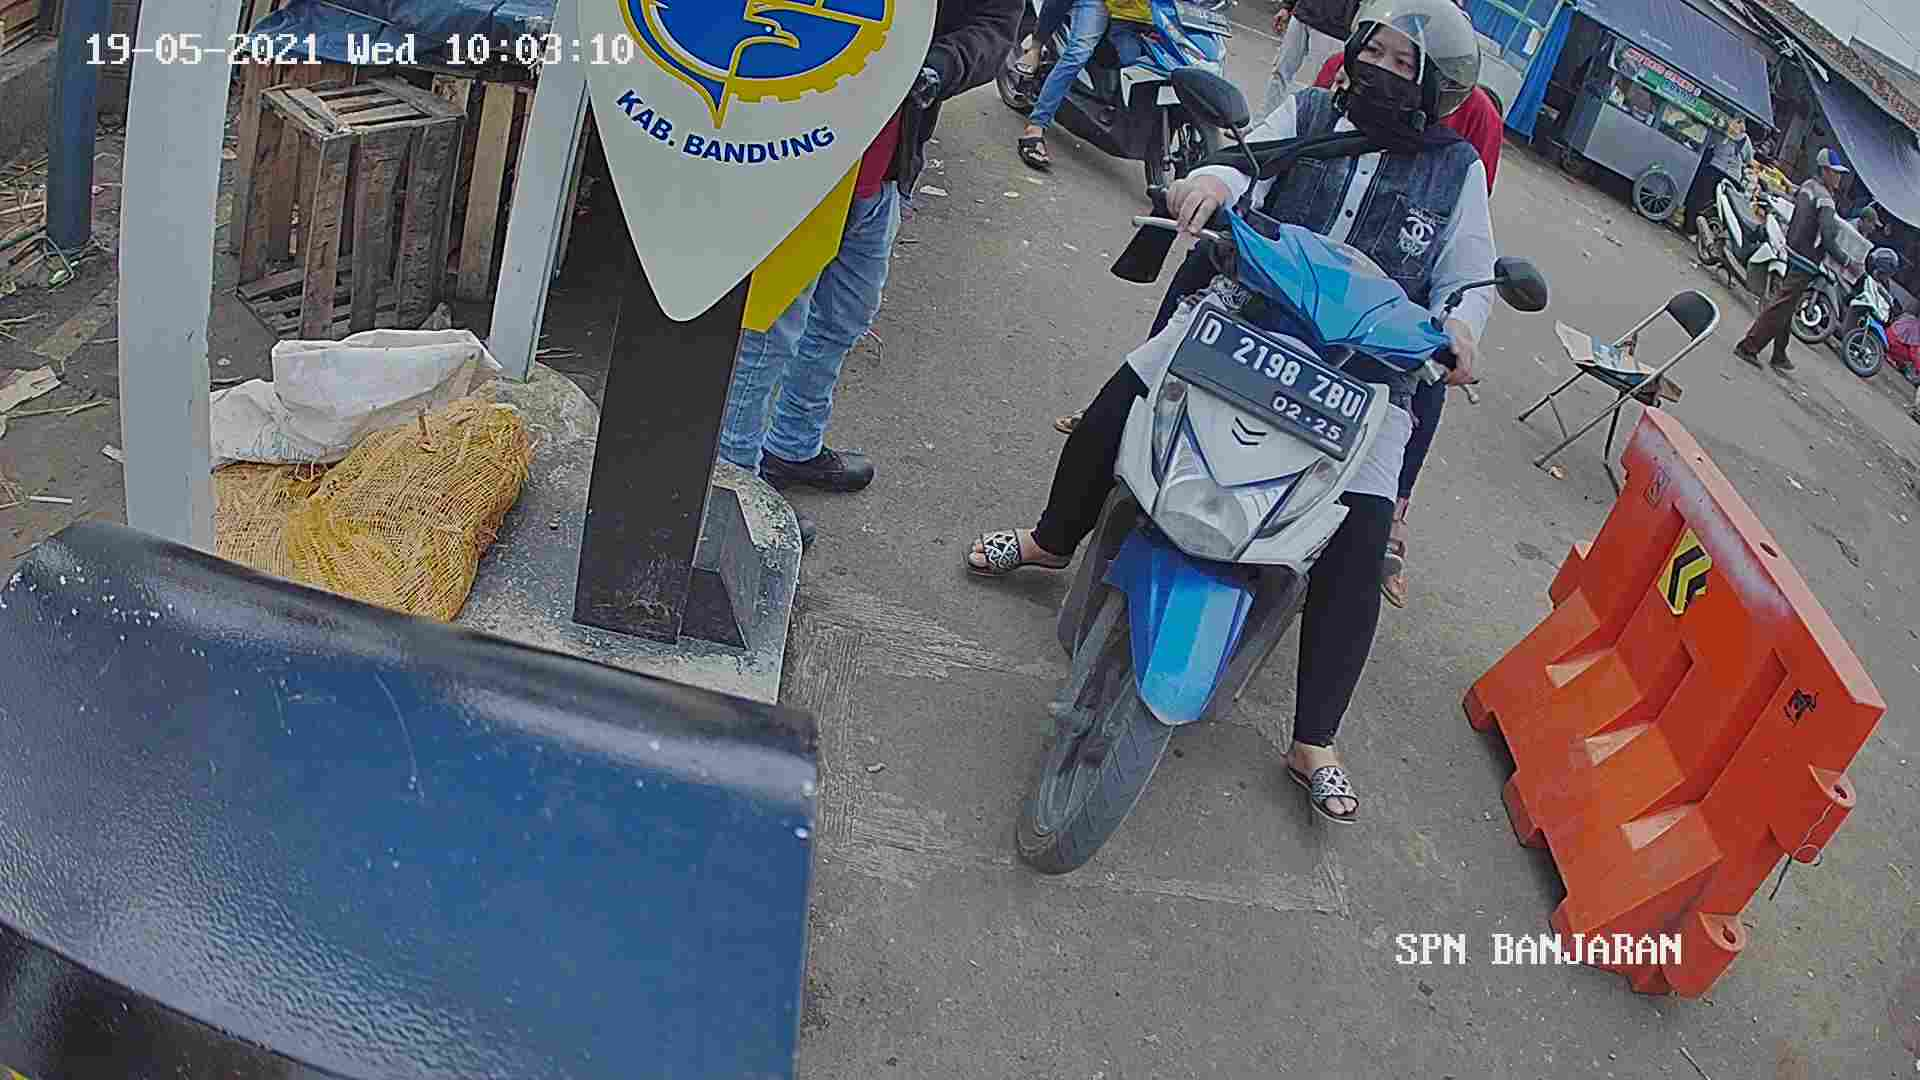motor: (1010, 131, 1494, 924)
